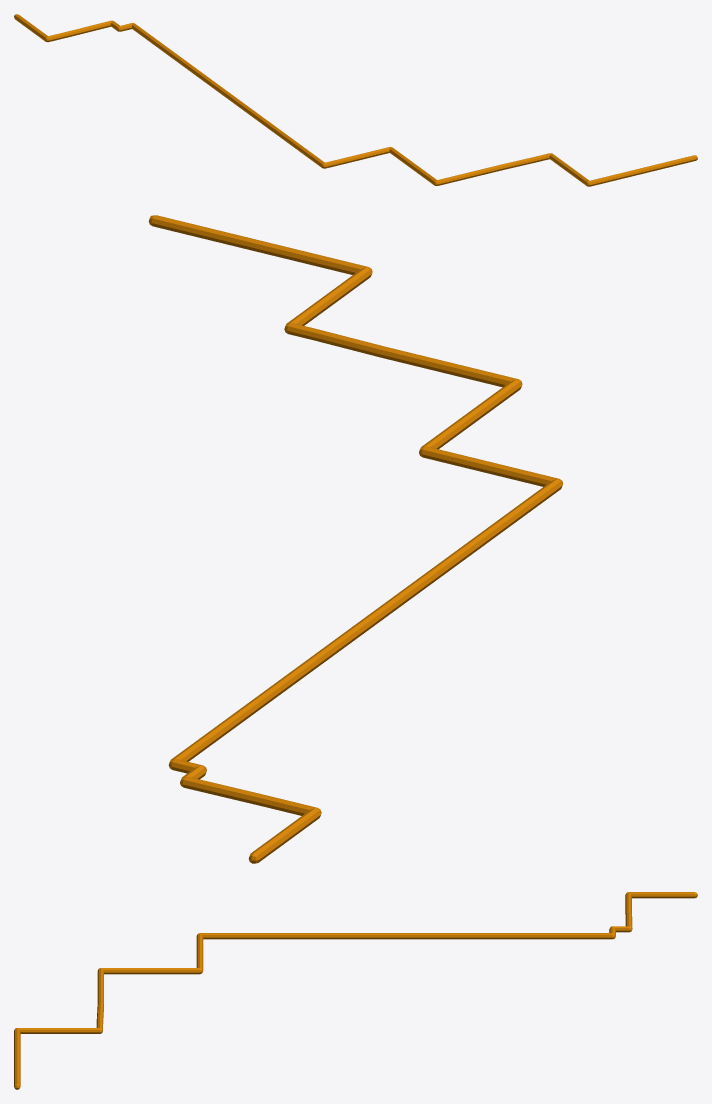
3 views of the same model, one above another, from view 1: azimuth 30°, elevation 25°; view 2: azimuth 150°, elevation 25°; view 3: azimuth 270°, elevation 25° (orthographic). The views are drawn at different scales.
Bounding box in the file's own units: 1393 × 20 × 2071.
